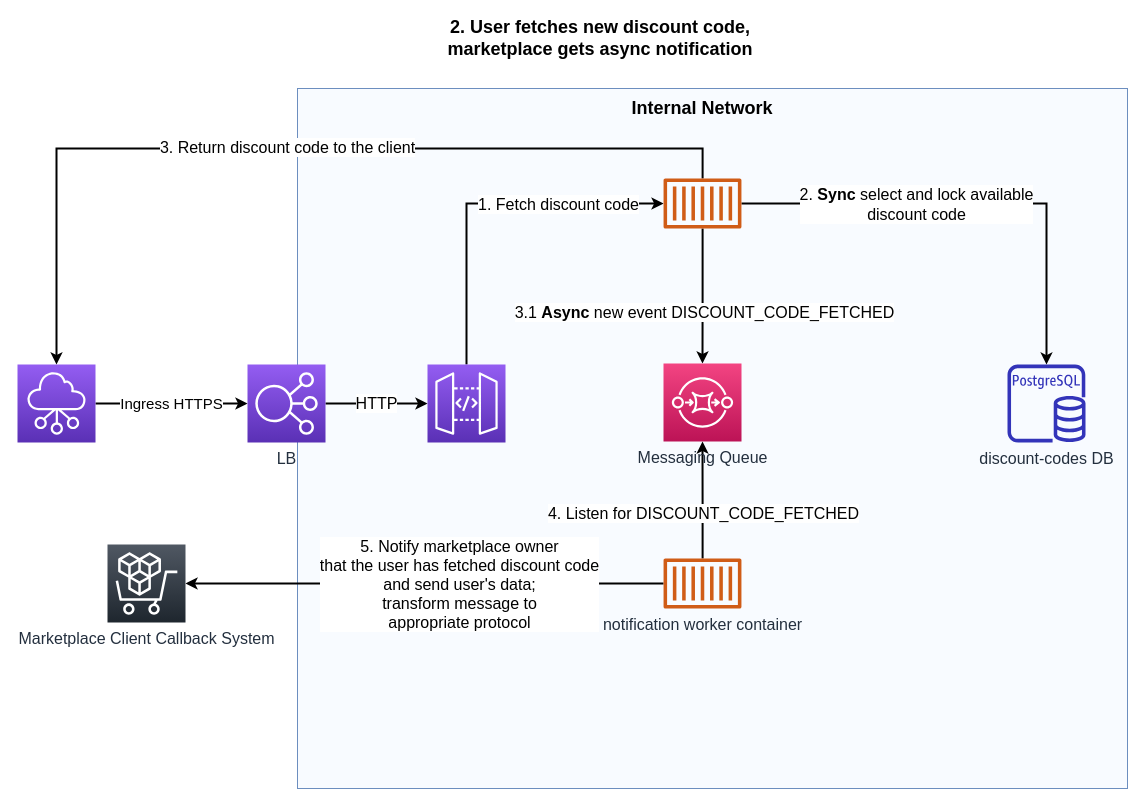
Some shapes in this 1145 by 806 pixel diagram are drawn without their labels. The shapes that lost their labels are listed below. From the top down, each one's centre as x and y in pixels, then its label:
At [702,203]: "discount-codes microservice container (Flask)".
At [56,403]: "User".
At [466,403]: "API Gateway".
